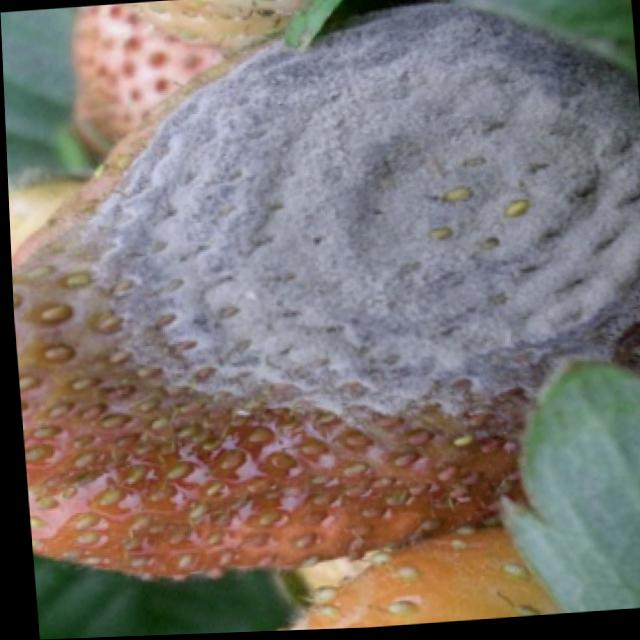Gray Mold: (9, 1, 640, 585)
